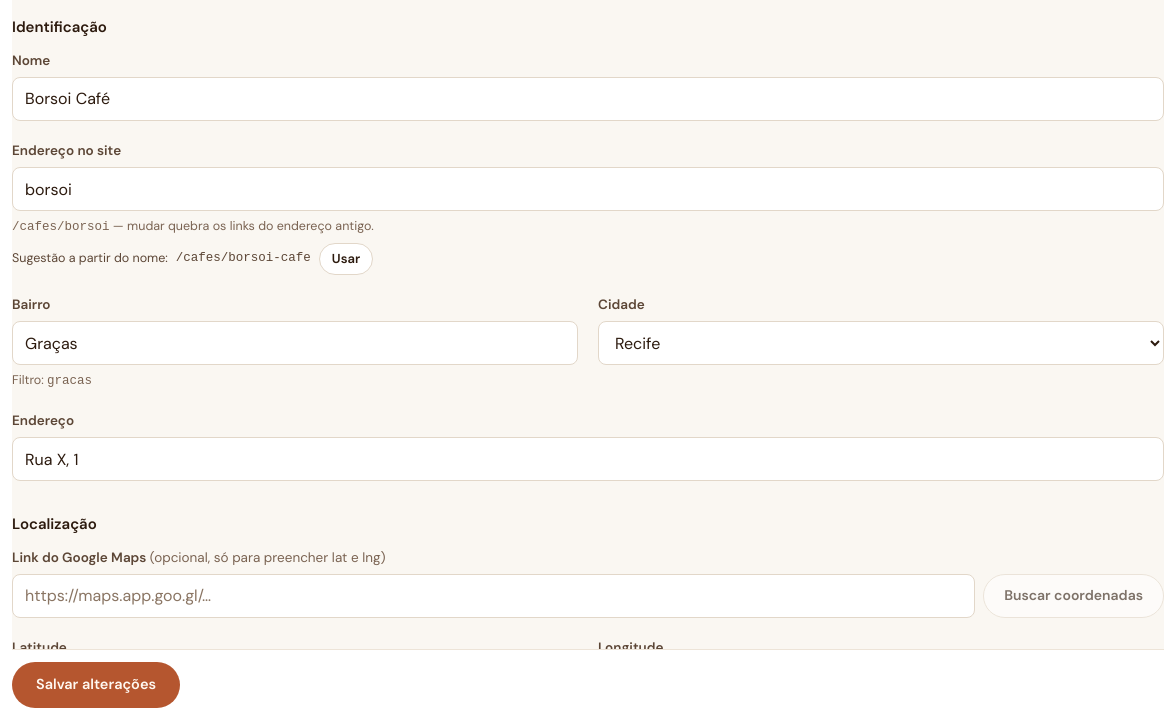
DadosCafeForm › recusa do servidor (payload que passou no cliente) também aparece por campo
Click the button "Salvar alterações" at (96, 685), box [12,662,180,708]
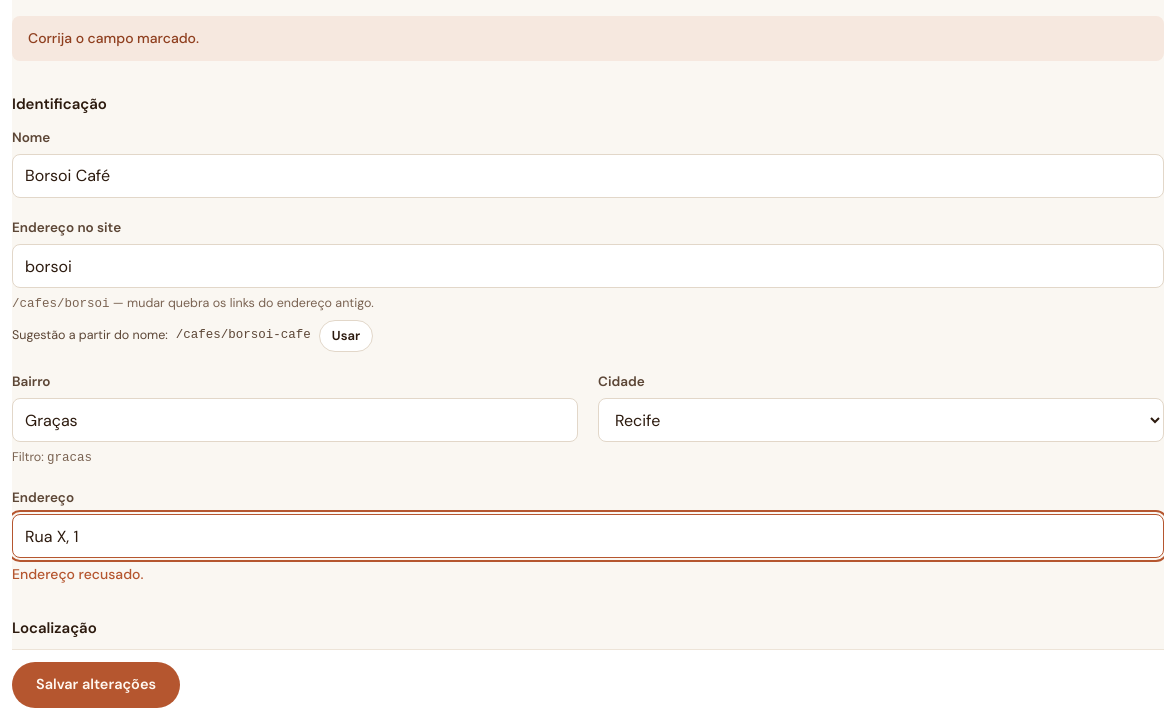
Expected: the text "Endereço recusado." is shown, [12,565,144,583]
